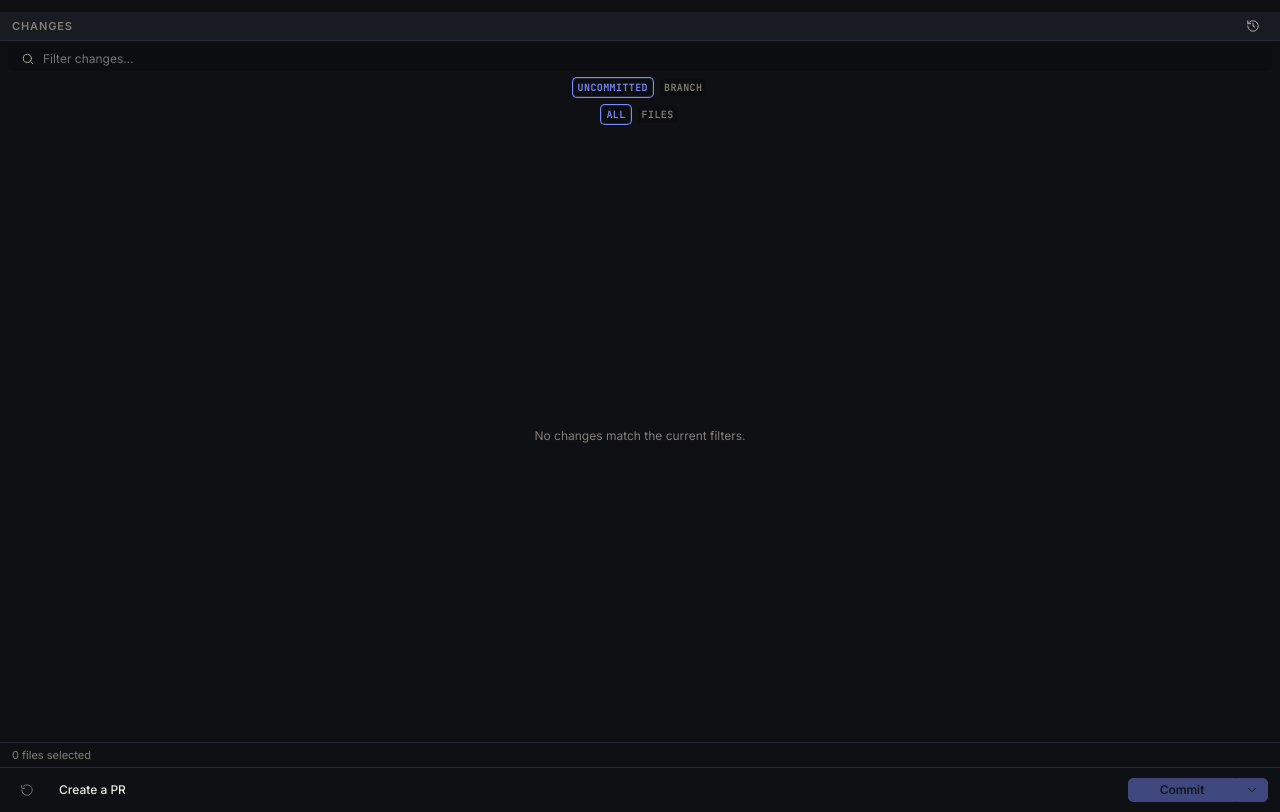
it: Create a PR in the Changes footer › CHG-FR-UPFP, CHG-FR-33, CHG-FR-56: stands on the leading edge after the rollback button, the split control keeps the trailing edge
Step 1. Click the radio button labelled "Files" → {"x": 658, "y": 114}, box [636, 104, 680, 125]
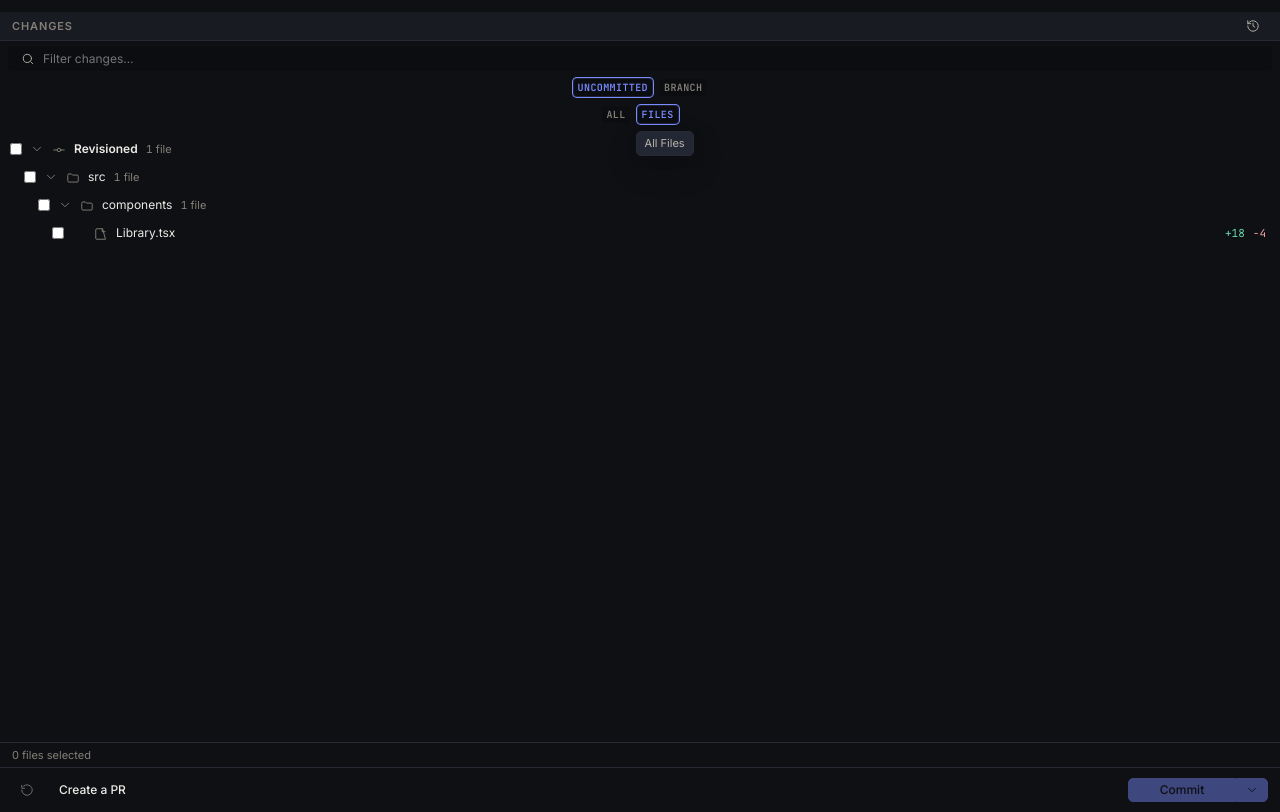
Expected: the button with test id "changes-create-pr" reads "Create a PR", [50, 778, 135, 802]
Result: the text "Library.tsx" is shown at [116, 225, 175, 240]
